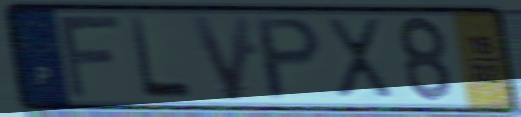8: (397, 14, 454, 105)
F: (56, 12, 125, 102)
L: (126, 14, 197, 102)
P: (254, 15, 326, 103)
V: (186, 12, 255, 104)
X: (322, 15, 398, 104)
